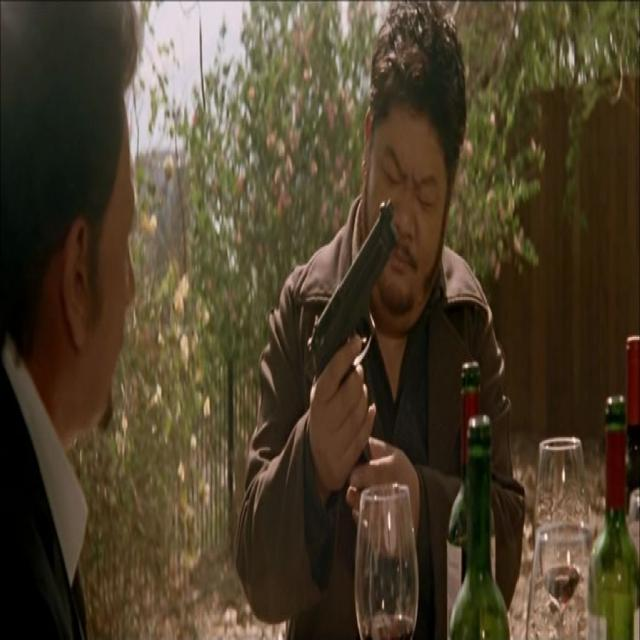gun-knife-thesis - v11 Yolov5 augmented: (307, 196, 405, 493)
